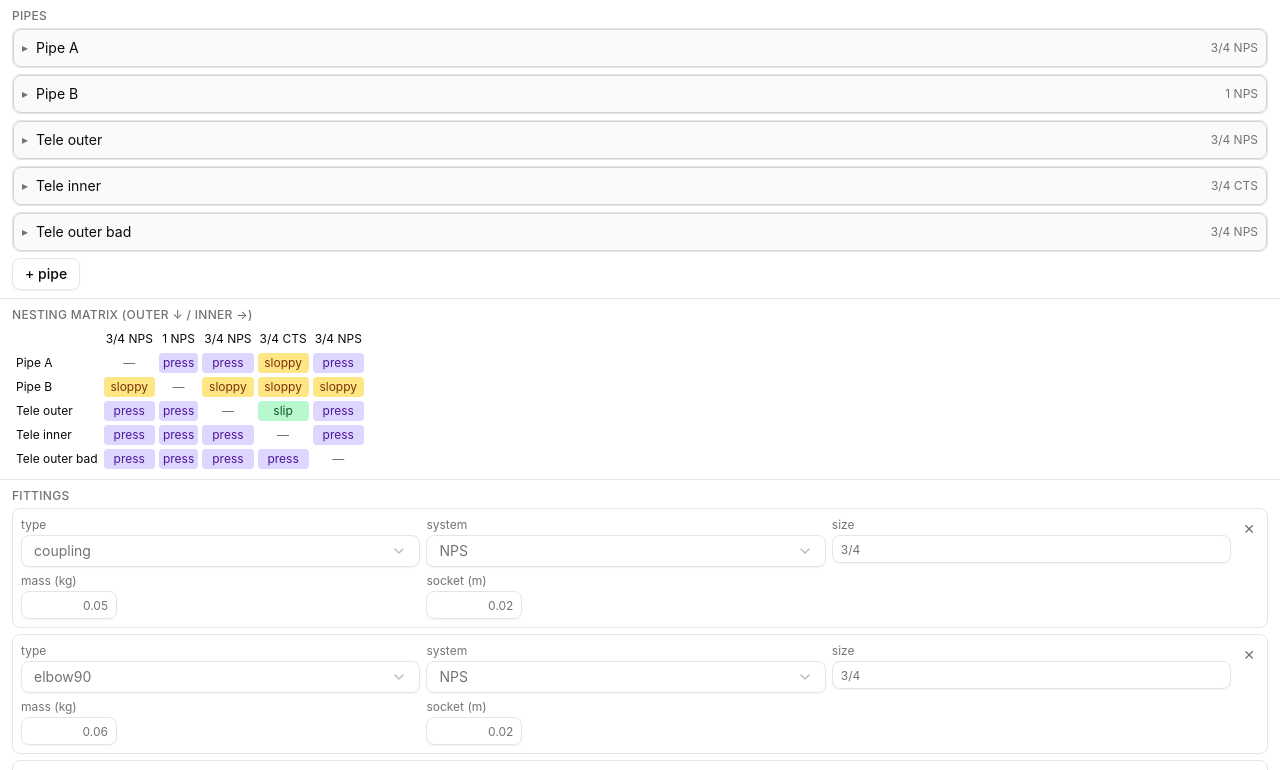
Scenario: MaterialsPanel › renders a row per pipe, collapsed by default, with no approximate badge
The image size is (1280, 770).
Click the button with test id "pipe-row-toggle" showing "▸ Pipe A 3/4 NPS".
click(57, 48)  # box [13, 29, 1267, 67]
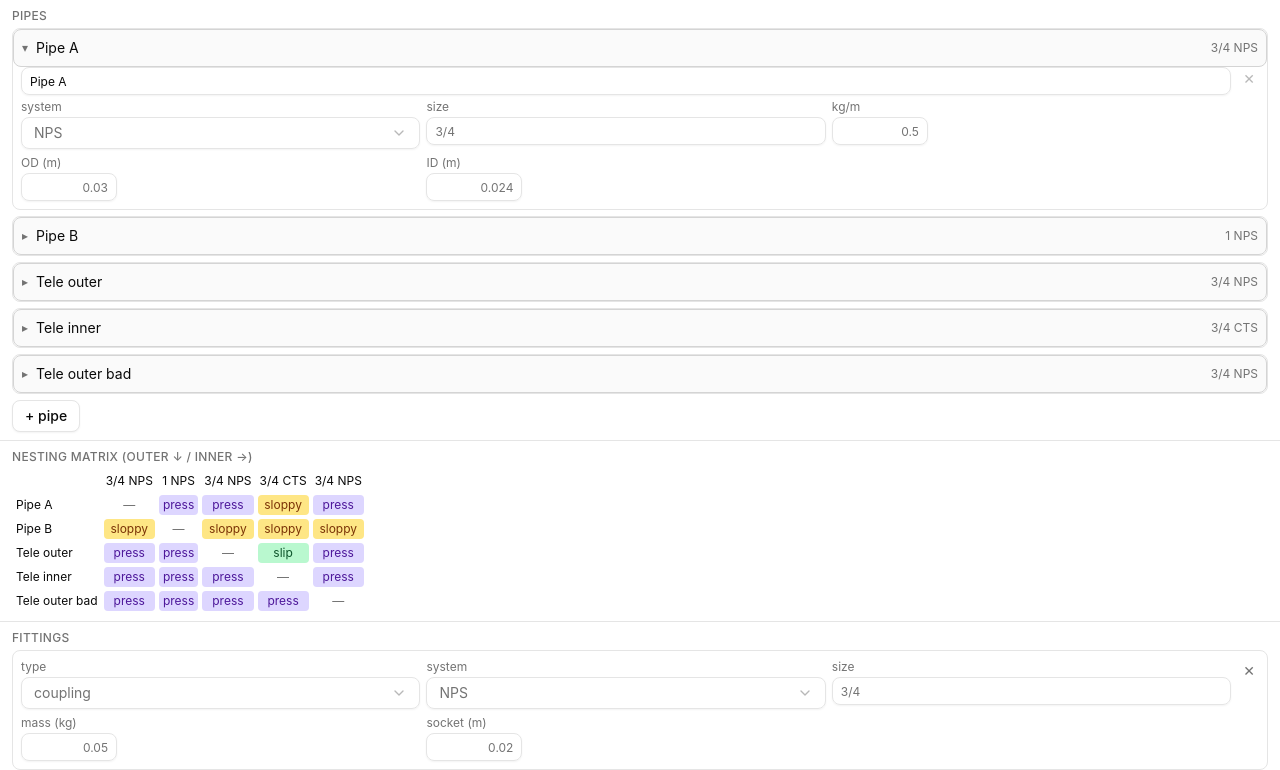
expect the number of fields with test id "pipe-density" is 1: met, box [832, 117, 928, 145]
Click the button with test id "pipe-row-toggle" showing "▾ Pipe A 3/4 NPS".
click(57, 48)  # box [13, 29, 1267, 67]
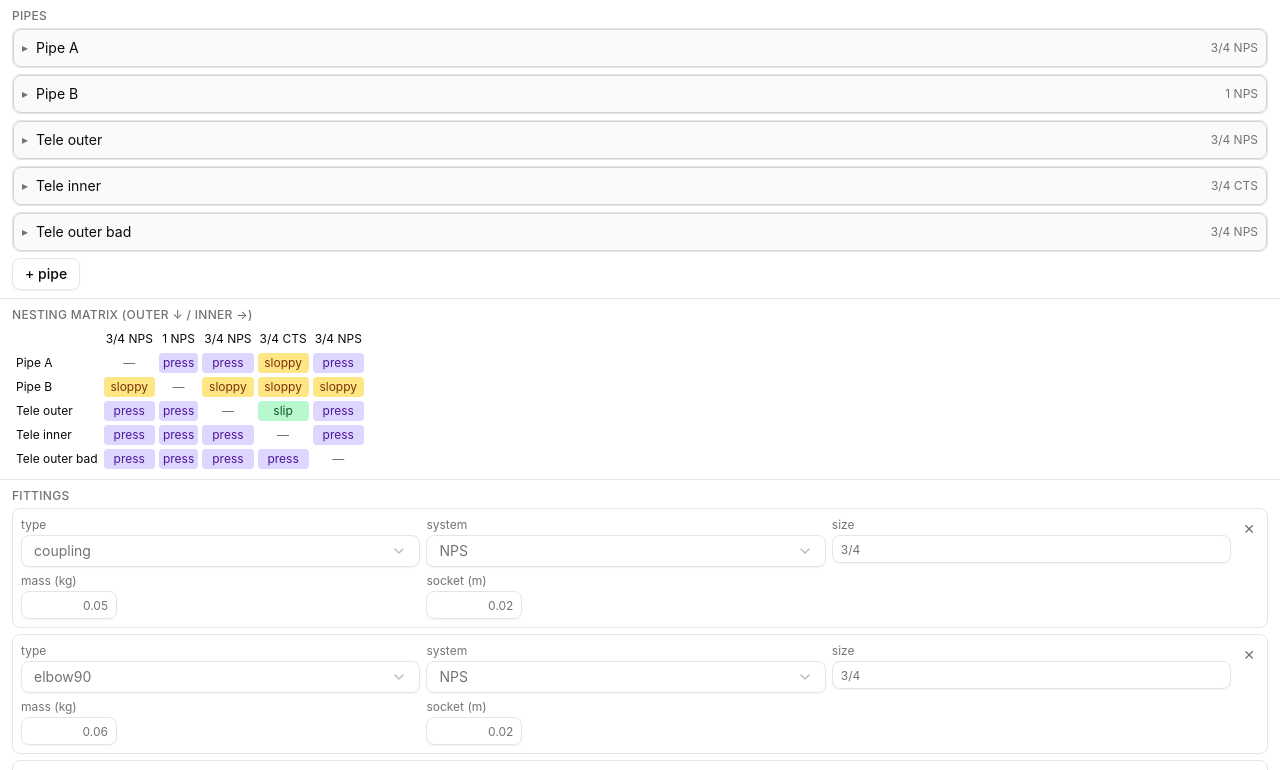
expect no fields with test id "pipe-density" are shown: met
